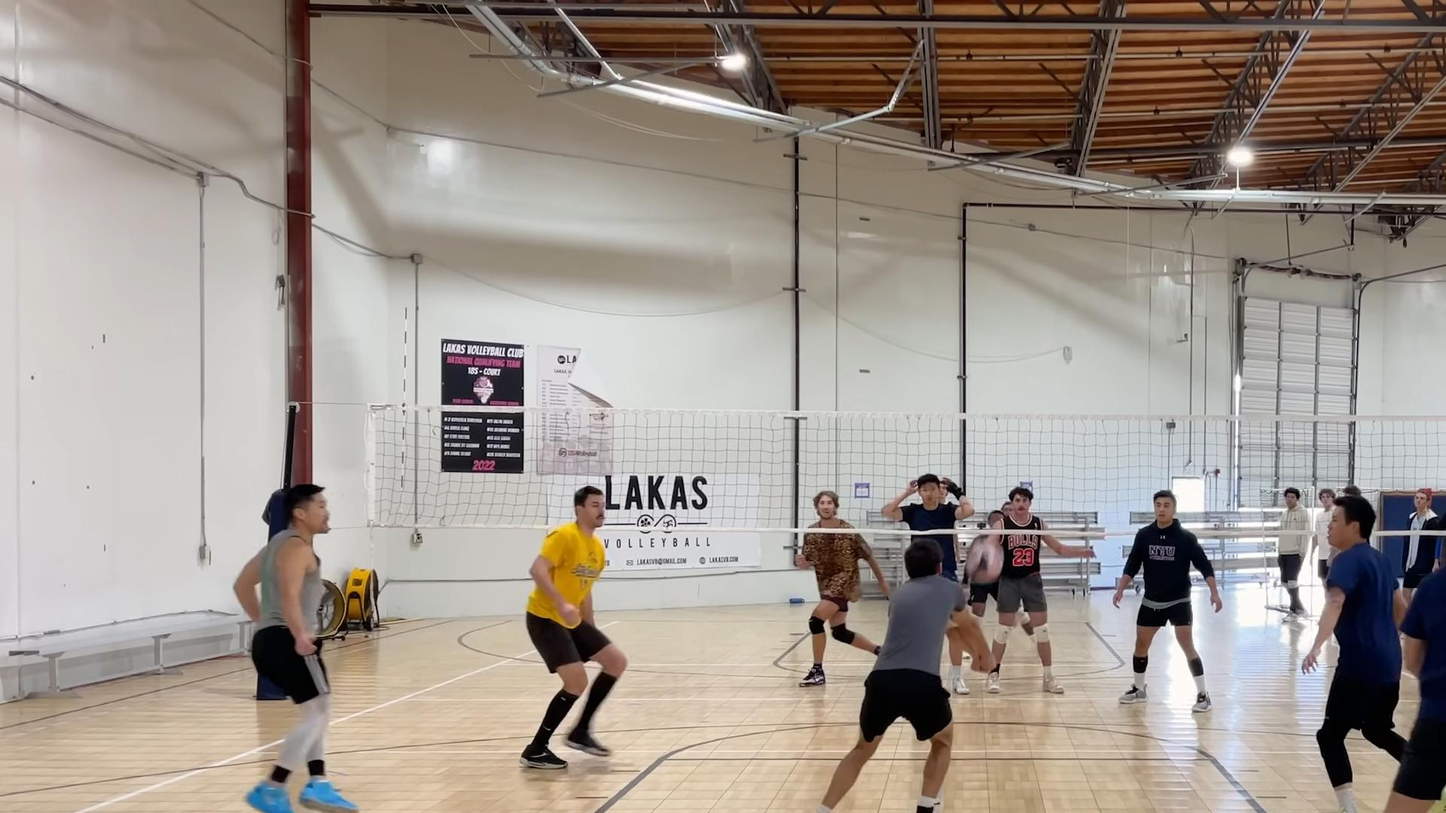ricezione: (806, 534, 1007, 813)
